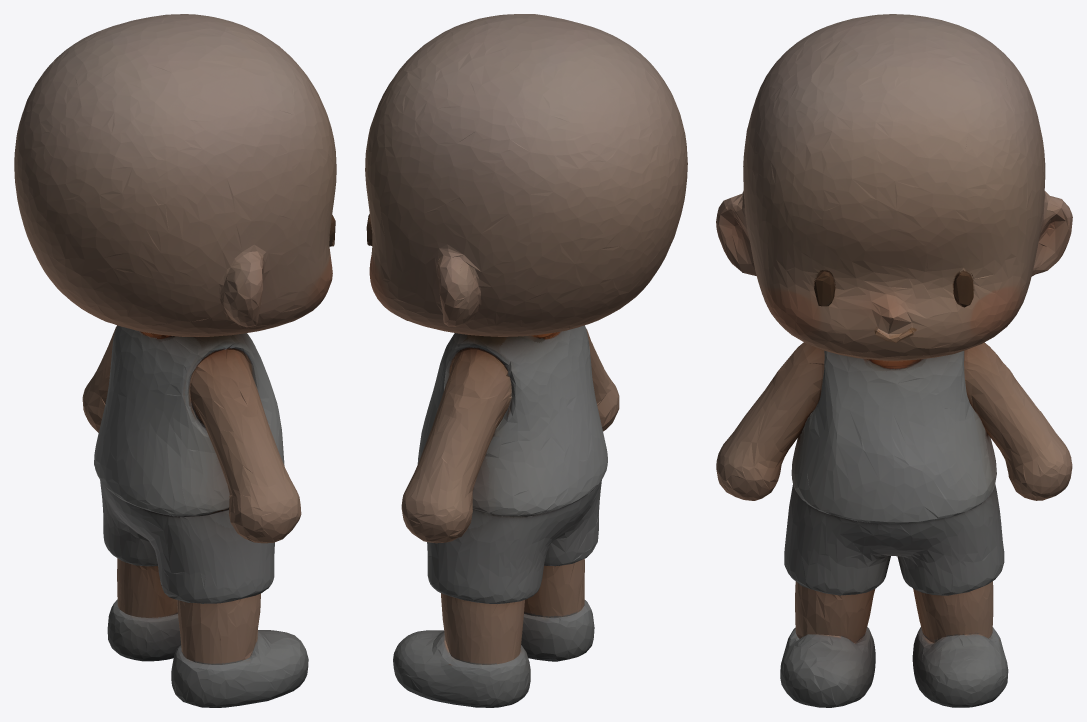
Rendered from villager.glb.
3 renders of one model, left to right at view 1: azimuth 30°, elevation 25°; view 2: azimuth 150°, elevation 25°; view 3: azimuth 270°, elevation 25°, orthographic.
Parts seen in each view (by area): view 1: geometry_0; view 2: geometry_0; view 3: geometry_0.
Boxes of the visible parts, x1=… form: geometry_0: x1=14, y1=14, x2=336, y2=707; geometry_0: x1=365, y1=14, x2=687, y2=707; geometry_0: x1=716, y1=14, x2=1072, y2=707.
Size of the model in its own units: 0.4575 by 1 by 0.5086.
Materials: 1 (1 with a texture image).
